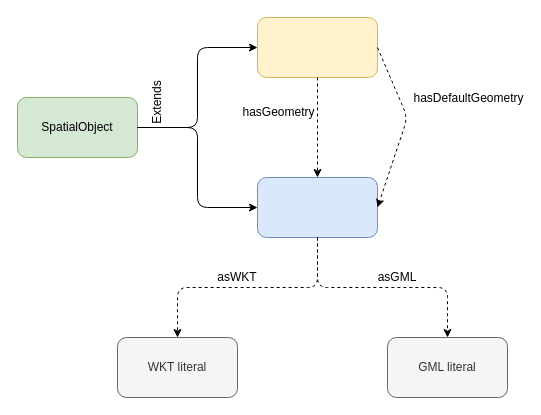
Image size: 541x415. Some labels were removed from this diagram. Each missing label, with the centre of its shape:
"Feature" goes at (317,47).
"Geometry" goes at (317,207).
